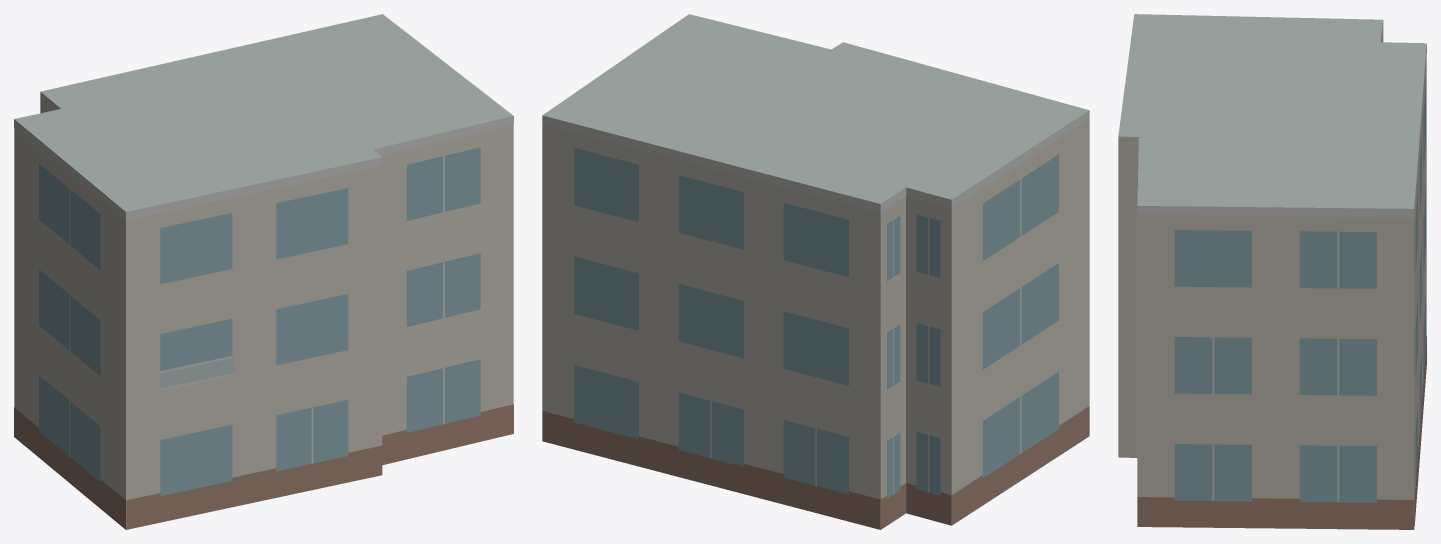
The model's file is survey-upis-32655538.glb.
3 renders of one model, left to right at view 1: azimuth 30°, elevation 25°; view 2: azimuth 150°, elevation 25°; view 3: azimuth 270°, elevation 25°, orthographic. The views are drawn at different scales.
Visible parts, largest first — view 1: survey-upis-32655538.tmp; view 2: survey-upis-32655538.tmp; view 3: survey-upis-32655538.tmp.
Boxes of the visible parts, x1,y1,x2,y2 form: survey-upis-32655538.tmp: [14, 14, 513, 529]; survey-upis-32655538.tmp: [542, 14, 1089, 529]; survey-upis-32655538.tmp: [1118, 14, 1426, 529].
Bounding box in the file's own units: 11.92 × 9.15 × 7.98.
